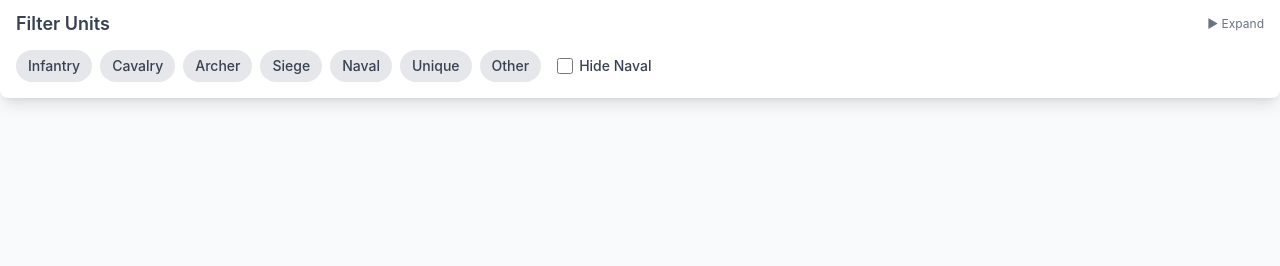
Test: UnitFilter › Collapsible behavior › should expand when expand button is clicked
Click the button "► Expand": (1236, 24) [1207,16,1264,32]
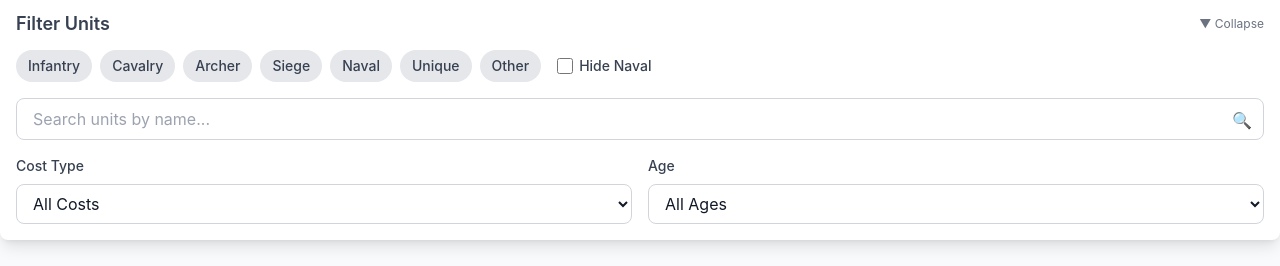
Expected: the button "▼ Collapse" is shown, [1199,16,1264,32]
Expected: the field with placeholder "Search units by name..." is shown, [16,98,1264,140]
